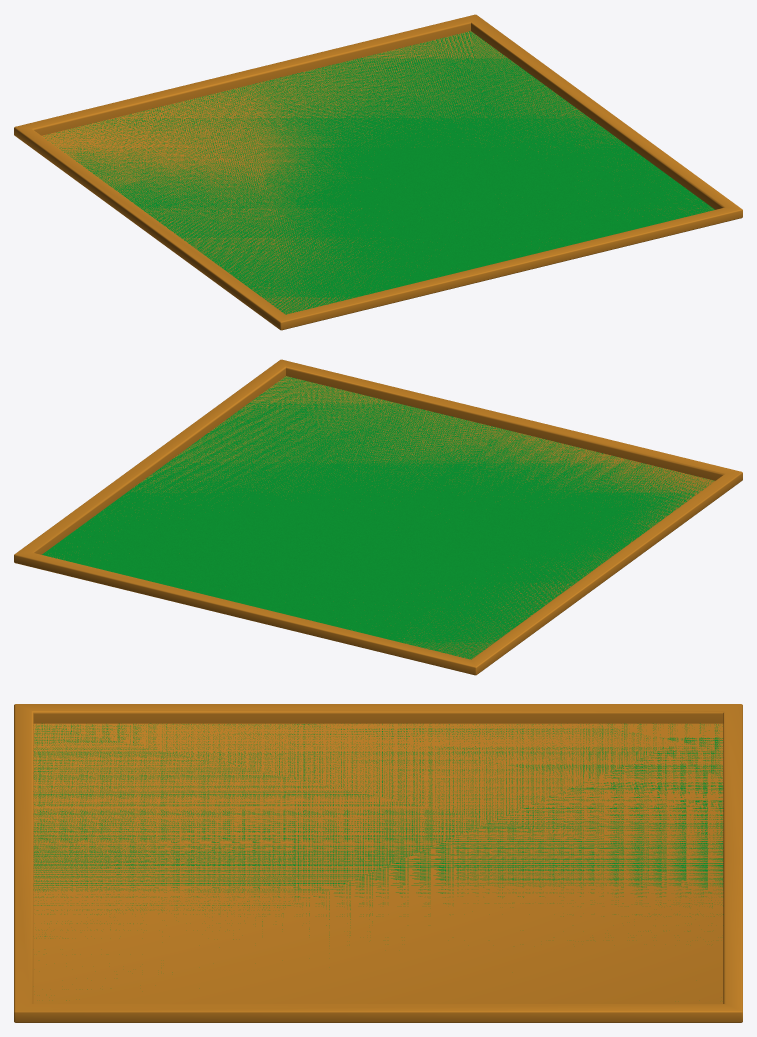
Rendered from table.fbx.
3 views of the same model, one above another, from view 1: azimuth 30°, elevation 25°; view 2: azimuth 150°, elevation 25°; view 3: azimuth 270°, elevation 25° (orthographic). The views are drawn at different scales.
Visible parts, largest first — view 1: __stdlen_655_mm; view 2: __stdlen_655_mm; view 3: __stdlen_655_mm.
Boxes of the visible parts, left/top/right/bottom form: __stdlen_655_mm: left=14, top=14, right=742, bottom=330; __stdlen_655_mm: left=14, top=359, right=742, bottom=675; __stdlen_655_mm: left=14, top=704, right=742, bottom=1022.
Size of the model in its own units: 220 by 4 by 220.
